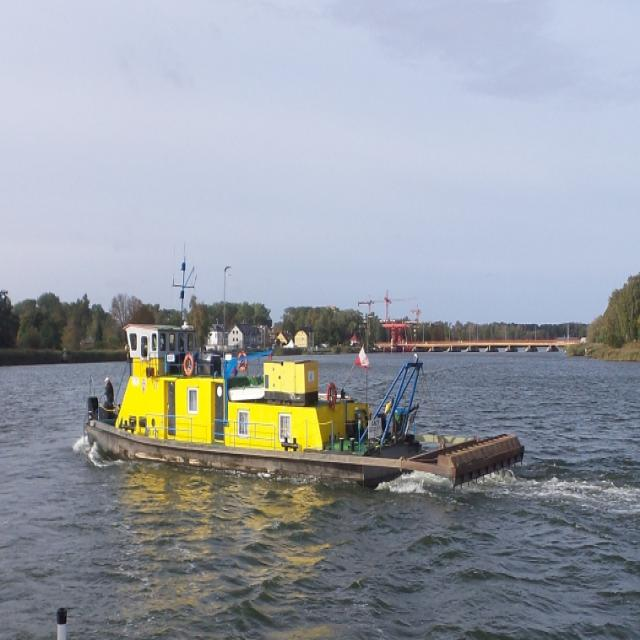tugboat: (81, 239, 533, 511)
